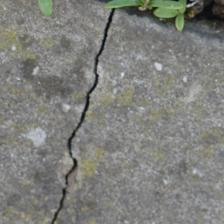Crack: (26, 5, 91, 215)
